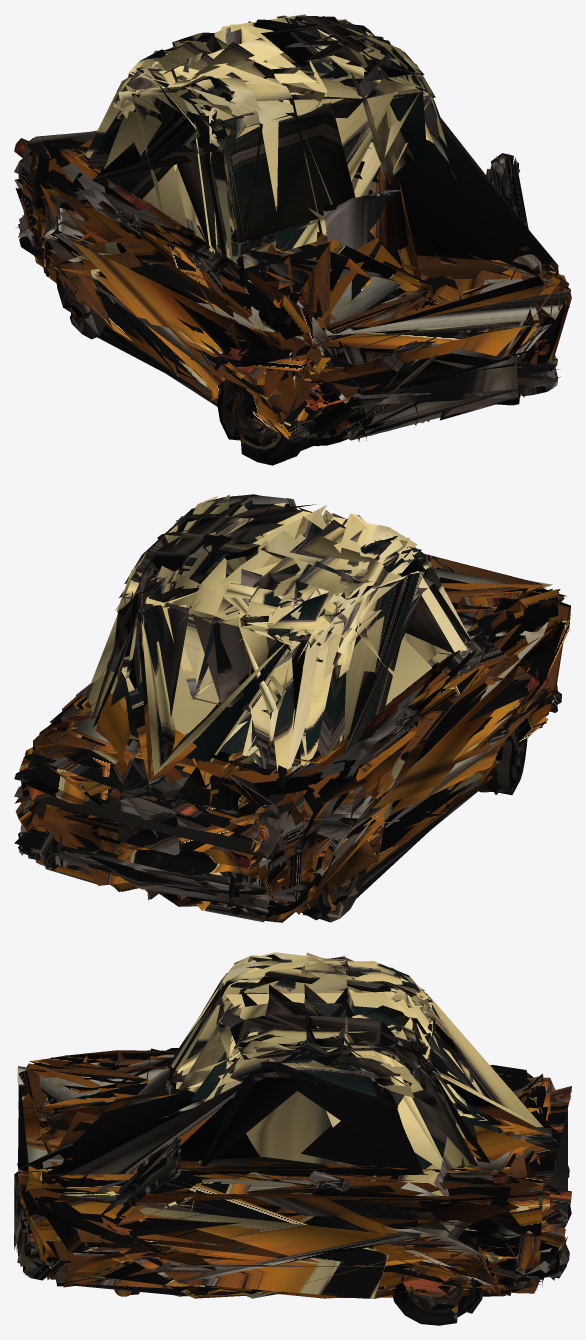
Rendered from car.obj.
3 renders of one model, top to bottom at view 1: azimuth 30°, elevation 25°; view 2: azimuth 150°, elevation 25°; view 3: azimuth 270°, elevation 25°, orthographic. The views are drawn at different scales.
Size of the model in its own units: 403 by 375 by 665.
